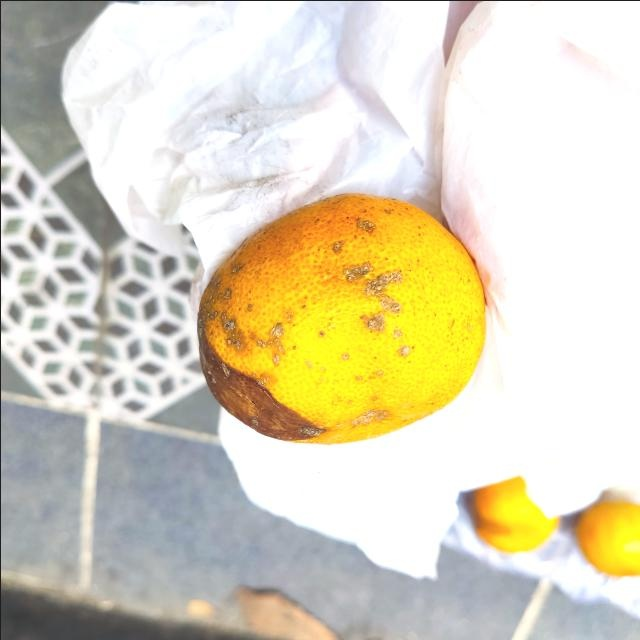agrume: (196, 192, 484, 444)
